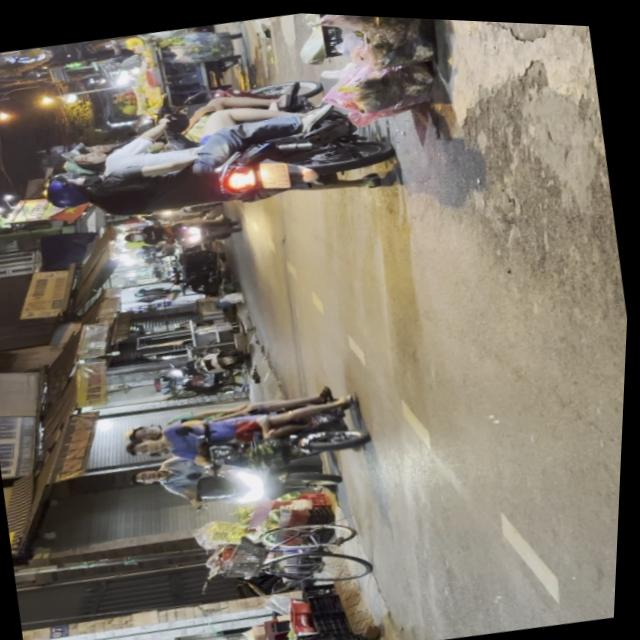helmet: (42, 172, 100, 213), (120, 420, 168, 447)
licenseplate: (24, 49, 406, 248), (114, 371, 378, 495)
motorcyclist: (125, 432, 171, 459), (134, 464, 168, 486)
nohelmet: (258, 157, 291, 189)
